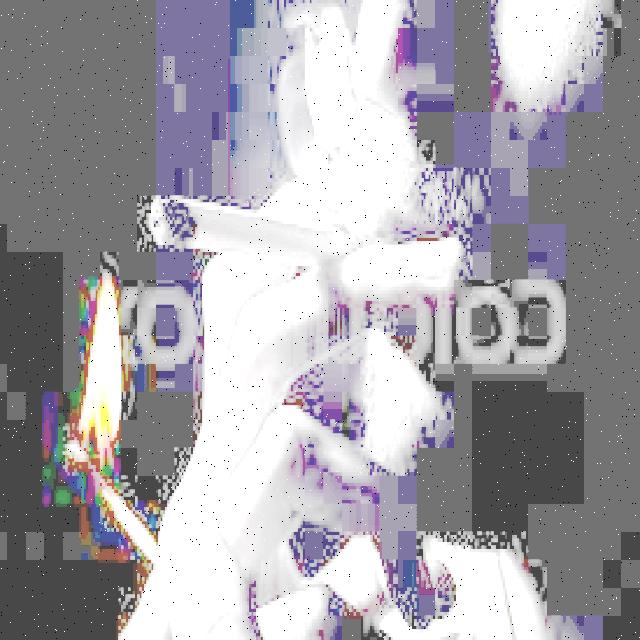api: (73, 263, 138, 459)
